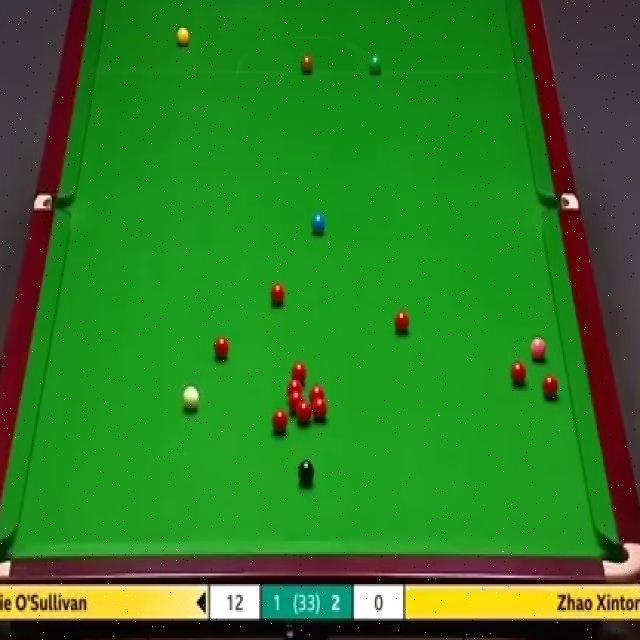black-ball: (299, 458, 314, 487)
blue-ball: (310, 212, 326, 234)
brown-ball: (300, 53, 314, 75)
green-ball: (369, 56, 382, 74)
pink-ball: (530, 335, 547, 363)
red-ball: (212, 335, 230, 364), (540, 375, 558, 402), (270, 408, 288, 434), (512, 361, 530, 387), (311, 398, 328, 424), (395, 309, 410, 336), (269, 284, 286, 307), (297, 400, 311, 425), (290, 362, 308, 380), (288, 392, 303, 412), (287, 378, 302, 396), (310, 388, 324, 402)
white-ball: (183, 386, 200, 413)
yellow-ball: (177, 27, 191, 49)
